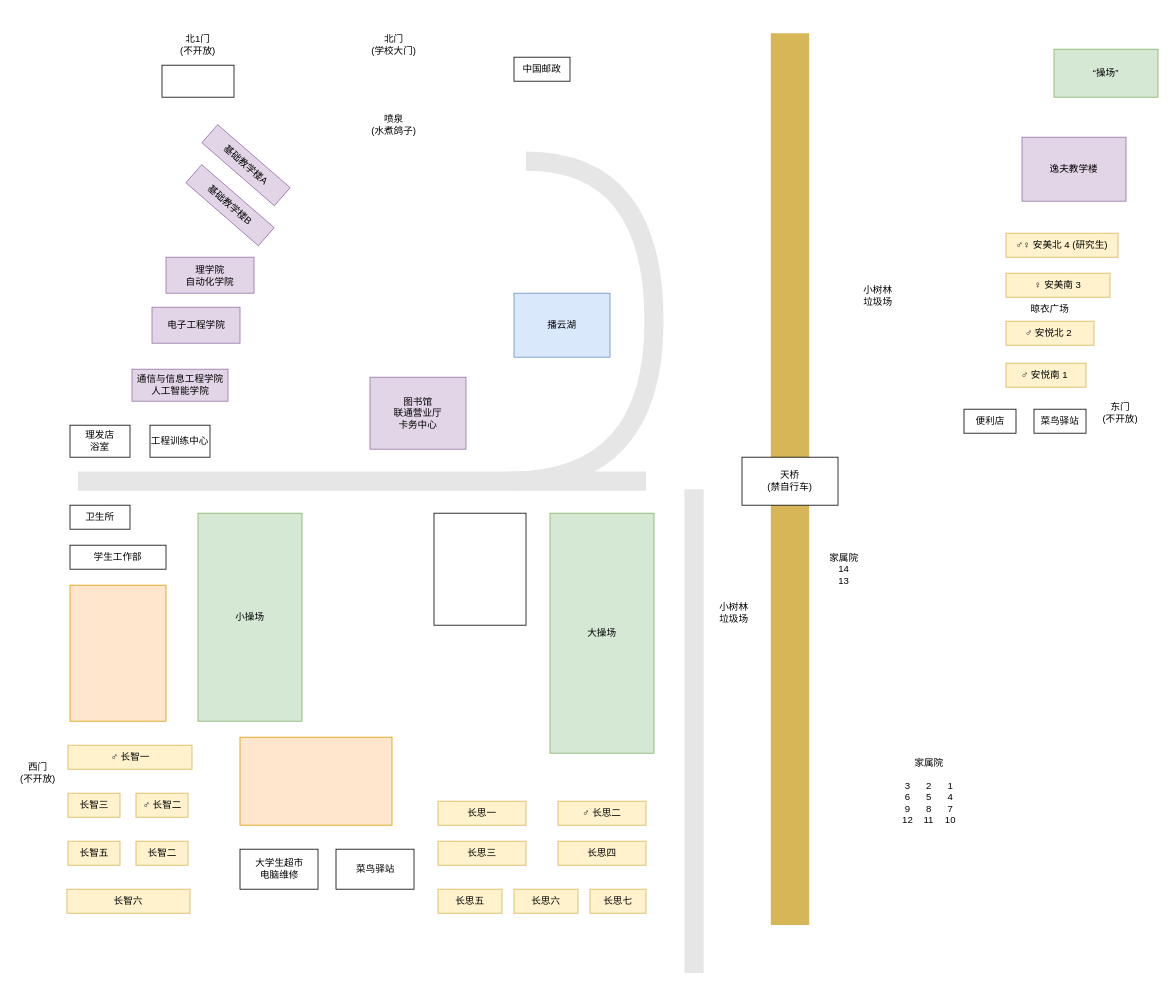
This 1172x997 diagram has some shape labels left out. The box of each missing label's shape, as (x1, y1, x2, y2) in pixels:
体育馆: (433, 512, 526, 625)
学术交流中心 (西邮宾馆): (161, 64, 234, 97)
旭日苑餐厅 蜜雪冰城 旧书店 修车店 奶茶店 打印店: (239, 736, 392, 825)
美食广场: (69, 584, 166, 721)
